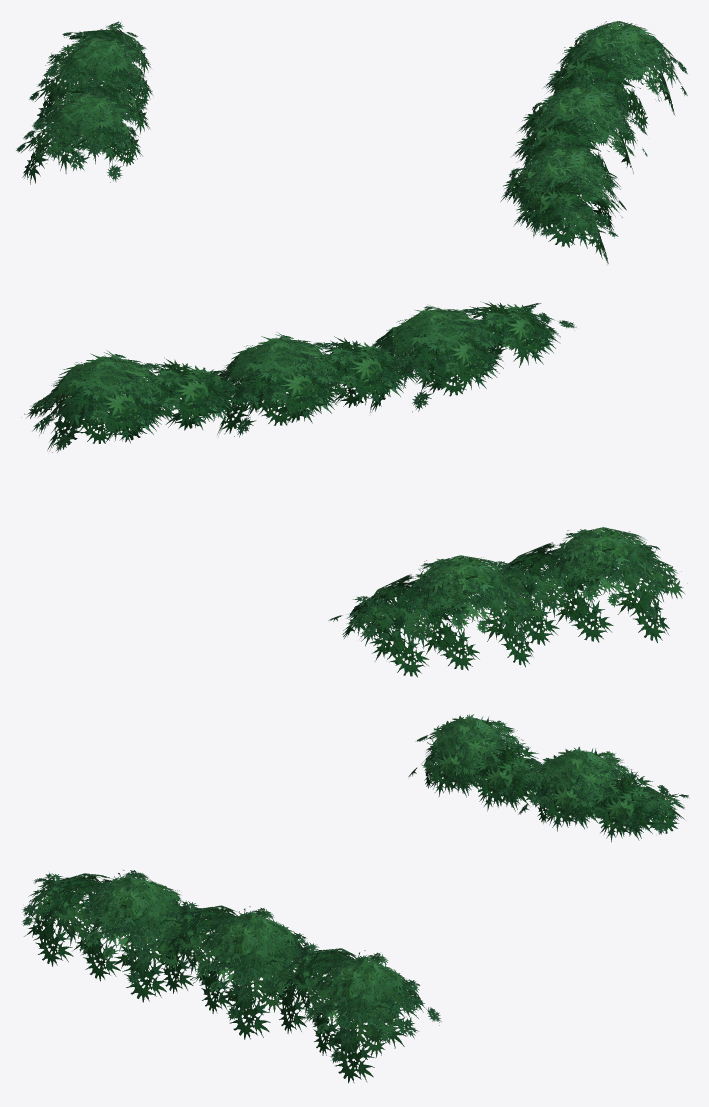
File: Area_06_11.fbx
3 renders of one model, top to bottom at view 1: azimuth 30°, elevation 25°; view 2: azimuth 150°, elevation 25°; view 3: azimuth 270°, elevation 25°, orthographic. The views are drawn at different scales.
Visible parts, largest first — view 1: Area_06_11; view 2: Area_06_11; view 3: Area_06_11.
Part boxes in pixels (x1=…): Area_06_11: x1=16, y1=21, x2=687, y2=263; Area_06_11: x1=21, y1=301, x2=687, y2=677; Area_06_11: x1=22, y1=714, x2=689, y2=1083.
Bounding box in the file's own units: 2812 × 519 × 2686.
